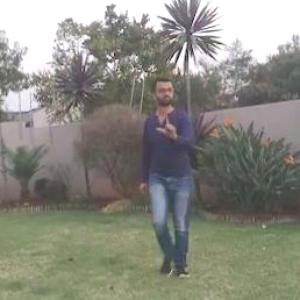land_hand: (159, 105, 191, 144)
